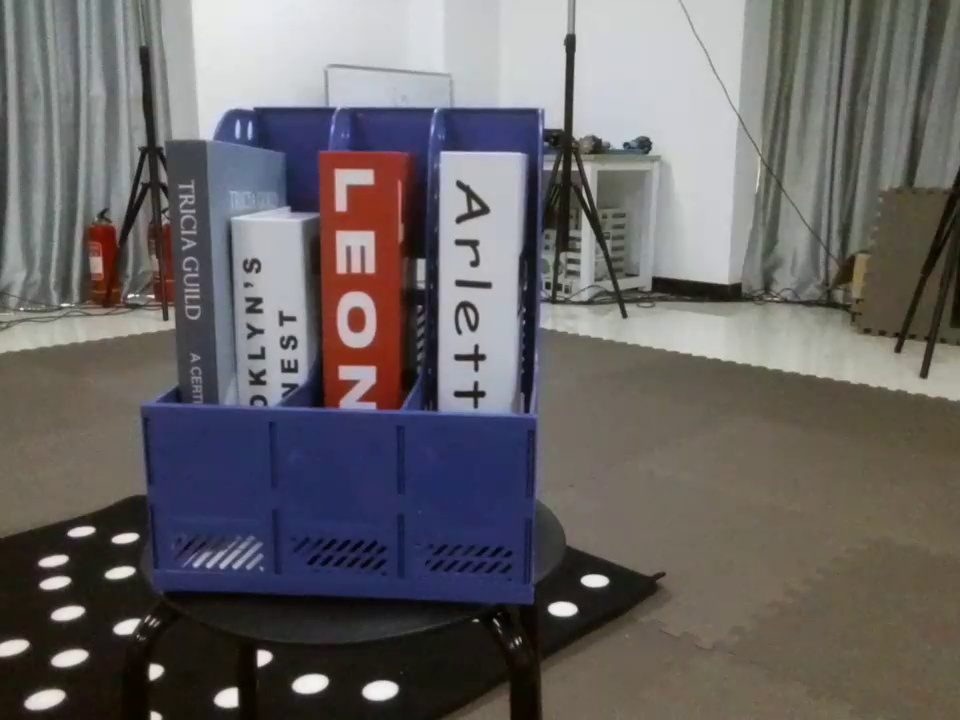files: (132, 90, 560, 616)
